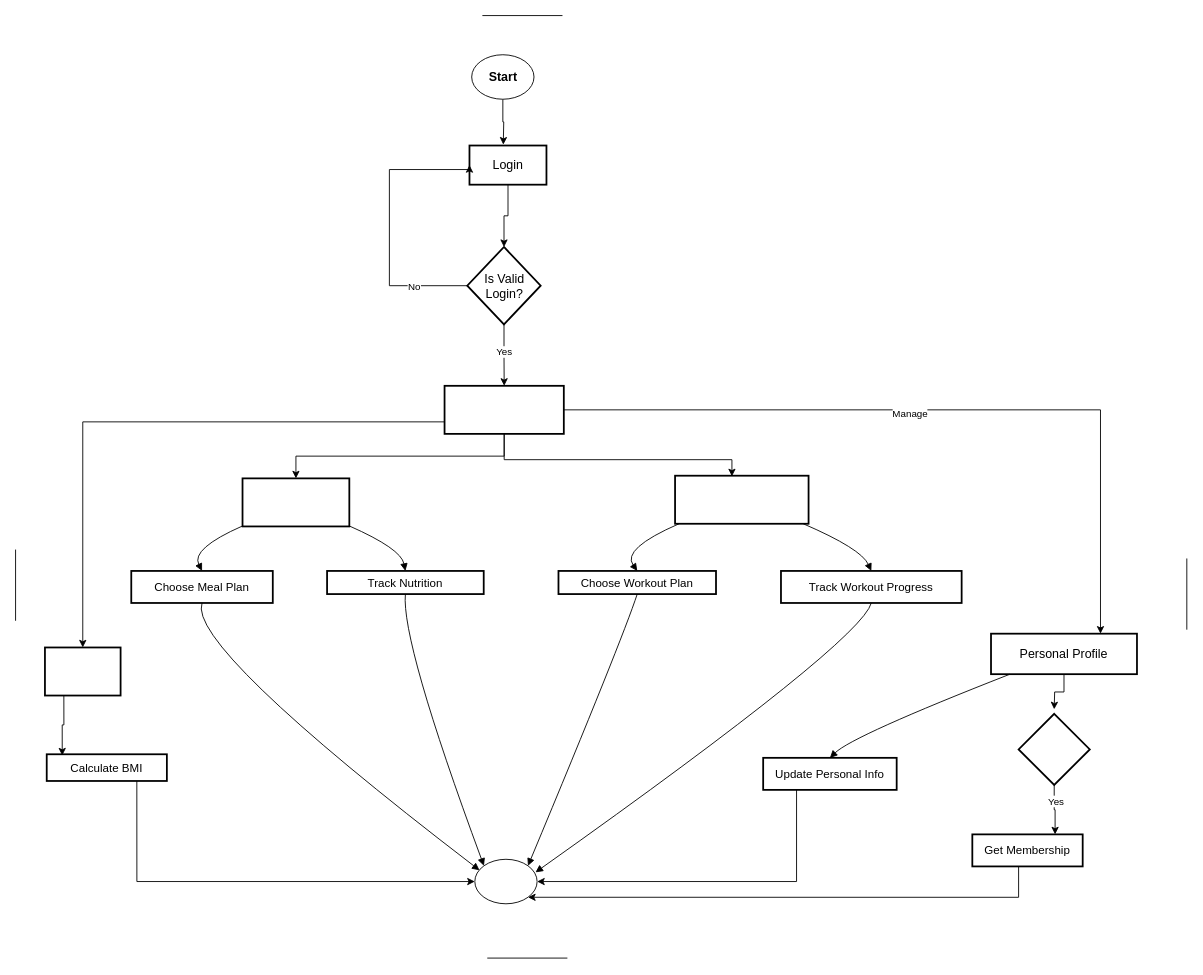
The diagram is 1203 pixels wide and 975 high, and some of its shapes have lost their labels. The centre of each missing label's shape, as x and y in pixels:
BMI: (82,671)
Dashboard: (503,409)
DietPlan: (295,502)
End: (505,881)
Is Free User?: (1053,748)
WorkoutPlan: (741,499)
